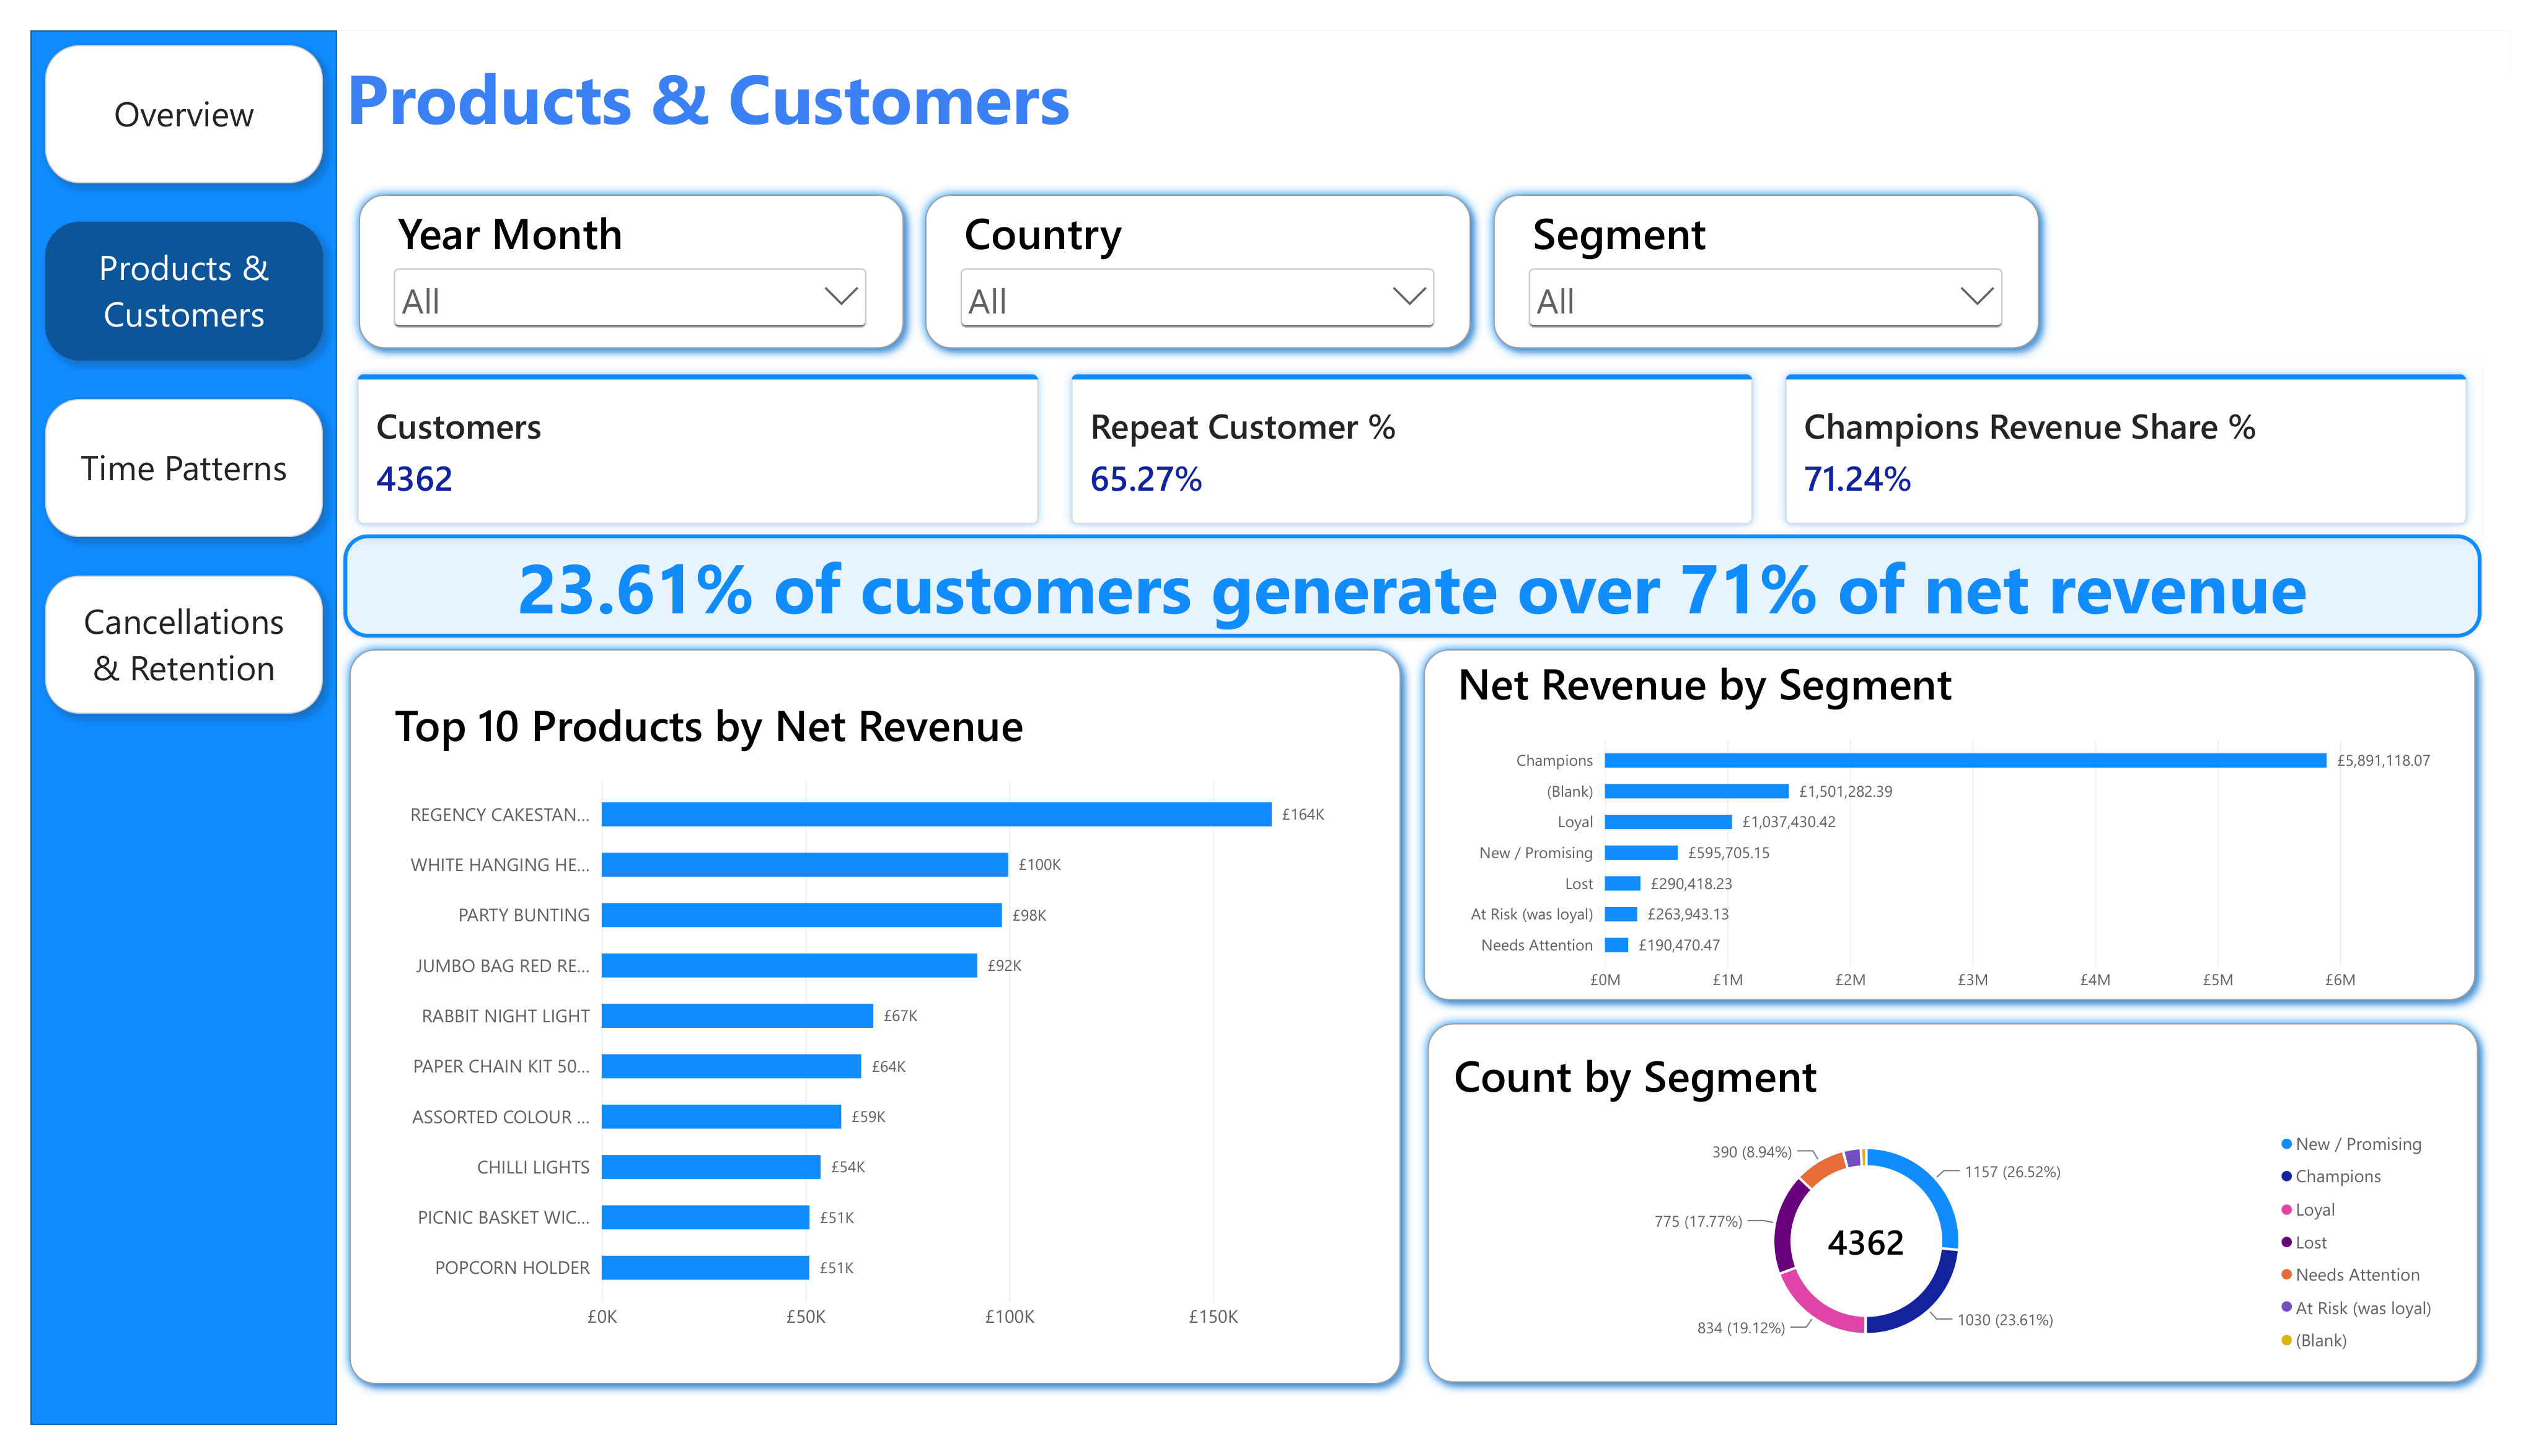

The dashboard page shown, as its layout file describes it:
{"tool":"powerbi","page":{"name":"Products & Customers","canvas":[1920,1080],"ordinal":1},"visuals":[{"type":"shape","box":[1070,470,831.7,290],"z":0},{"type":"shape","box":[238.3,470,831.7,586.7],"z":1000},{"type":"shape","box":[1124.3,117.7,440,137.1],"z":2000},{"type":"shape","box":[0,0,237.1,1080],"z":3000},{"type":"pageNavigator","box":[0,0,237.1,540],"z":4000},{"type":"textbox","box":[244.3,14.3,825.7,72.9],"z":5000},{"type":"shape","box":[684.4,117.7,440,137.1],"z":6000},{"type":"shape","box":[244.5,117.7,440,137.1],"z":7000},{"type":"slicer","fields":{"Values":["Calendar.Year Month"]},"box":[275.6,133.3,376.7,106.7],"z":8000},{"type":"slicer","fields":{"Values":["ecommerce_analytics vw_customer_rfm.segment"]},"box":[1155.4,133.3,376.7,106.7],"z":9000},{"type":"slicer","fields":{"Values":["ecommerce_analytics online_retail.country"]},"box":[715.5,133.3,376.7,106.7],"z":10000},{"type":"cardVisual","fields":{"Data":["_Measures (2).Customers","_Measures (2).Repeat Customer %","_Measures (2).Champions Revenue Share %"]},"box":[241.7,255,1656.1,138.4],"z":11000},{"type":"clusteredBarChart","title":"Top 10 Products by Net Revenue","fields":{"Category":["ecommerce_analytics online_retail.description"],"Y":["_Measures (2).Net Revenue"]},"box":[270,501.7,771.7,521.7],"z":12000},{"type":"shape","box":[1073.1,759.6,831.3,296.3],"z":13000},{"type":"donutChart","title":"Count by Segment","fields":{"Category":["ecommerce_analytics vw_customer_rfm.segment"],"Y":["_Measures (2).Customers"]},"box":[1090,773.8,790.8,266.9],"z":14000},{"type":"clusteredBarChart","title":"Net Revenue by Segment","fields":{"Category":["ecommerce_analytics vw_customer_rfm.segment"],"Y":["_Measures (2).Net Revenue"]},"box":[1093.3,470,790,290],"z":15000},{"type":"textbox","box":[241.7,390,1656.7,80],"z":16000}]}

Visuals, with their boxes on the page's 1920x1080 design canvas (x1, y1, x2, y2). These are canvas units, not pixel positions in the 2541x1456 screenshot, which may show the page scaled, cropped or inside an application window:
shape: <region>1070, 470, 1902, 760</region>
shape: <region>238, 470, 1070, 1057</region>
shape: <region>1124, 118, 1564, 255</region>
shape: <region>0, 0, 237, 1080</region>
pageNavigator: <region>0, 0, 237, 540</region>
textbox: <region>244, 14, 1070, 87</region>
shape: <region>684, 118, 1124, 255</region>
shape: <region>244, 118, 684, 255</region>
slicer - Calendar.Year Month: <region>276, 133, 652, 240</region>
slicer - ecommerce_analytics vw_customer_rfm.segment: <region>1155, 133, 1532, 240</region>
slicer - ecommerce_analytics online_retail.country: <region>716, 133, 1092, 240</region>
cardVisual - _Measures (2).Customers x _Measures (2).Repeat Customer %: <region>242, 255, 1898, 393</region>
"Top 10 Products by Net Revenue" clusteredBarChart: <region>270, 502, 1042, 1023</region>
shape: <region>1073, 760, 1904, 1056</region>
"Count by Segment" donutChart: <region>1090, 774, 1881, 1041</region>
"Net Revenue by Segment" clusteredBarChart: <region>1093, 470, 1883, 760</region>
textbox: <region>242, 390, 1898, 470</region>
